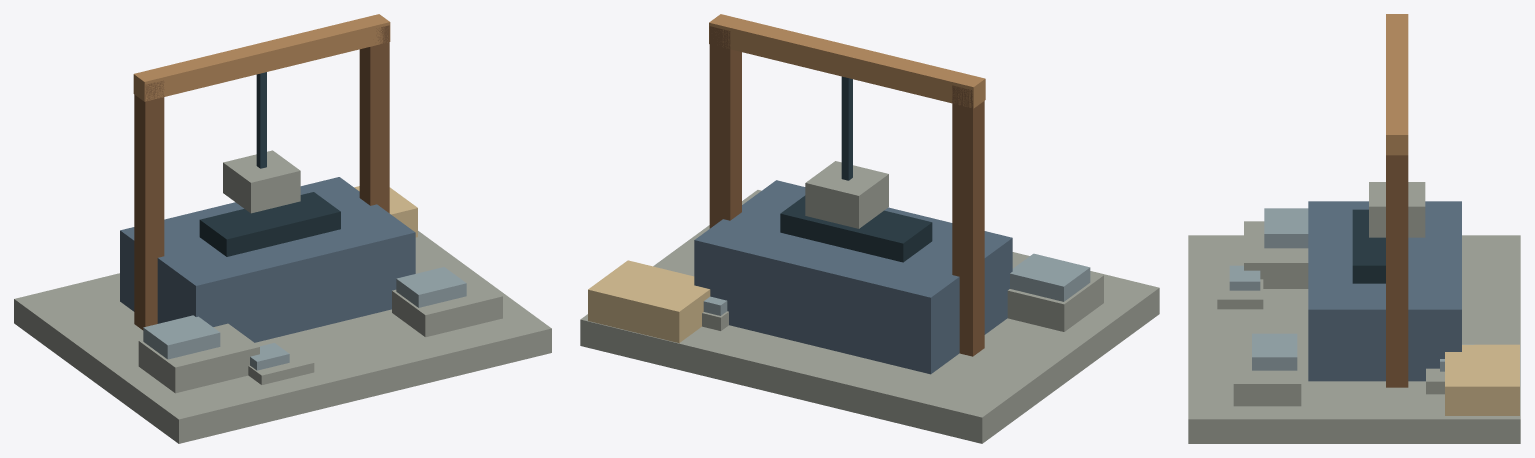
Rendered from quarry_yard.glb.
The picture shows the model from 3 angles, left to right: view 1: azimuth 30°, elevation 25°; view 2: azimuth 150°, elevation 25°; view 3: azimuth 270°, elevation 25°; orthographic projection. The views are drawn at different scales.
Bounding box in the file's own units: 2.55 × 1.79 × 1.95.
